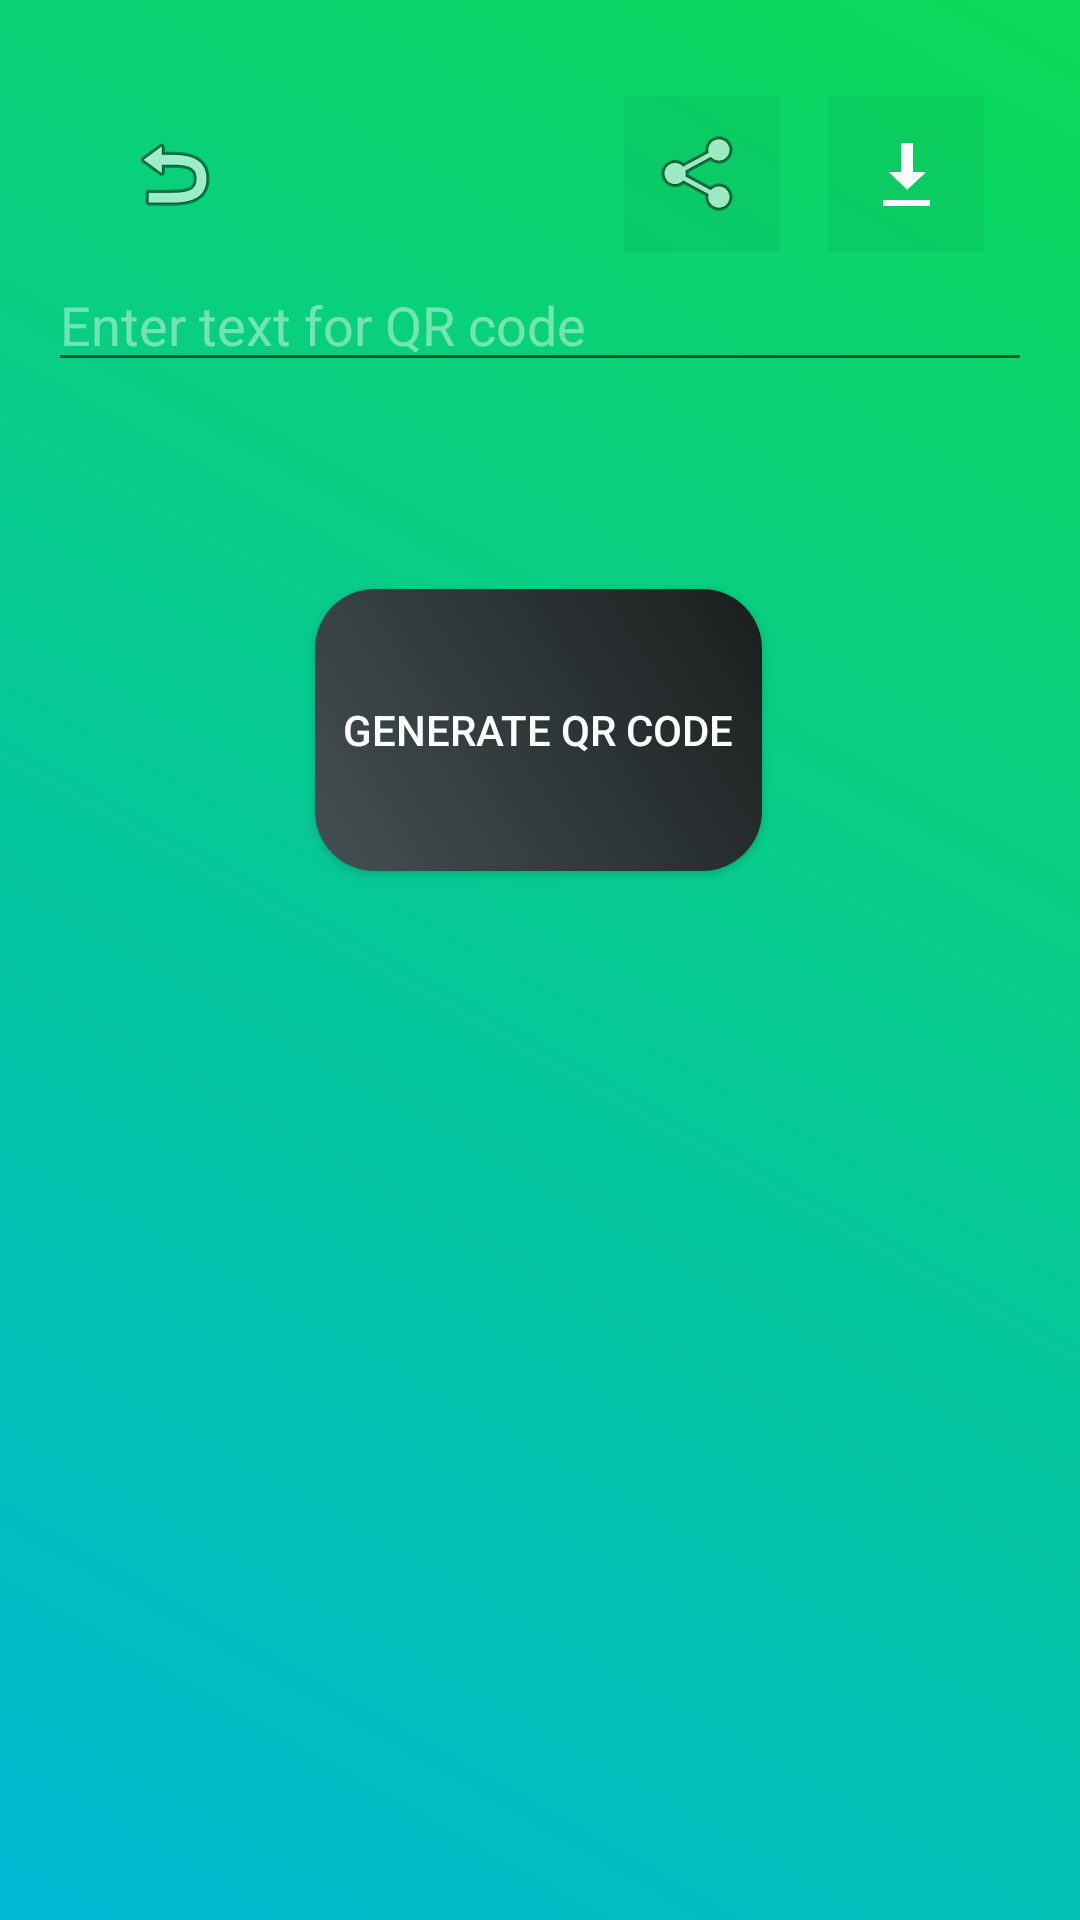

Screen size 1080 × 1920. Icon name, then its box in pixels as (x1, y1, x2, y2):
download: (828, 96, 984, 252)
revert: (141, 143, 210, 206)
share: (624, 96, 780, 252)
